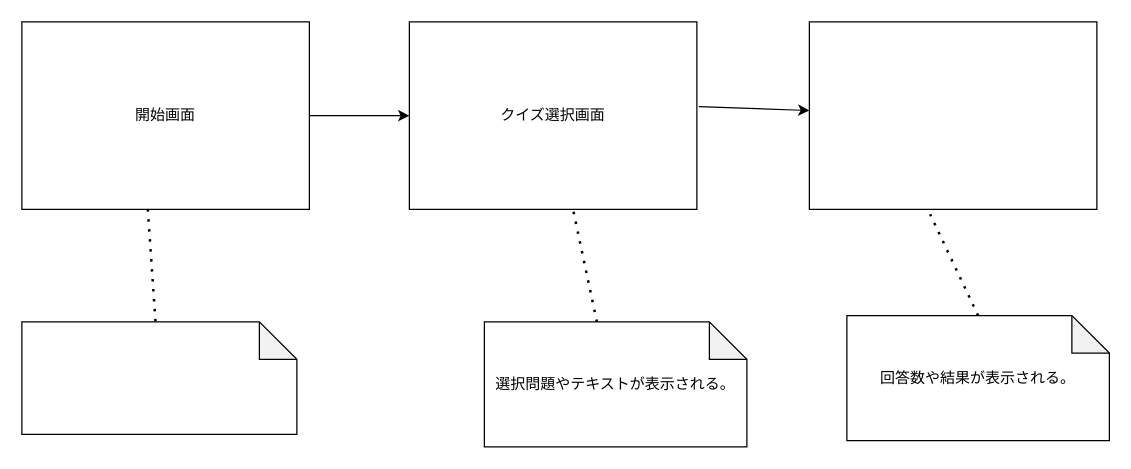
The diagram is 1131 pixels wide and 469 high, and some of its shapes have lost their labels. The centre of each missing label's shape, as x and y in pixels:
"名前を入力して、 スタートボタンを押したら開始する" belongs at [159,377].
"終了画面" belongs at [952,115].
